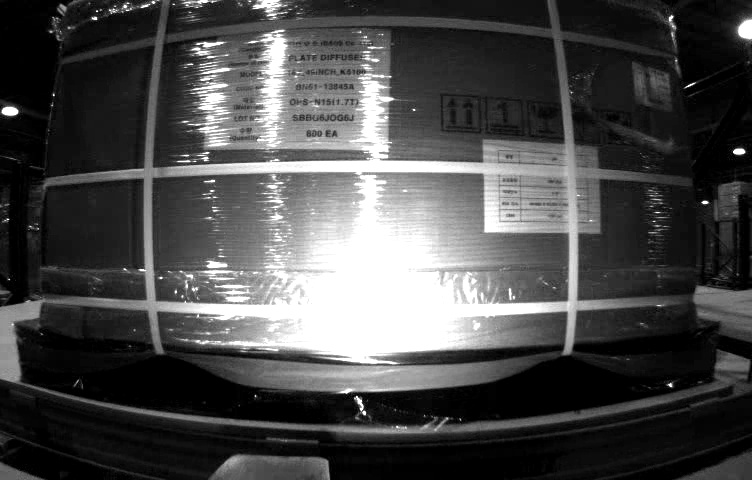True Barcode: (631, 64, 671, 108)
